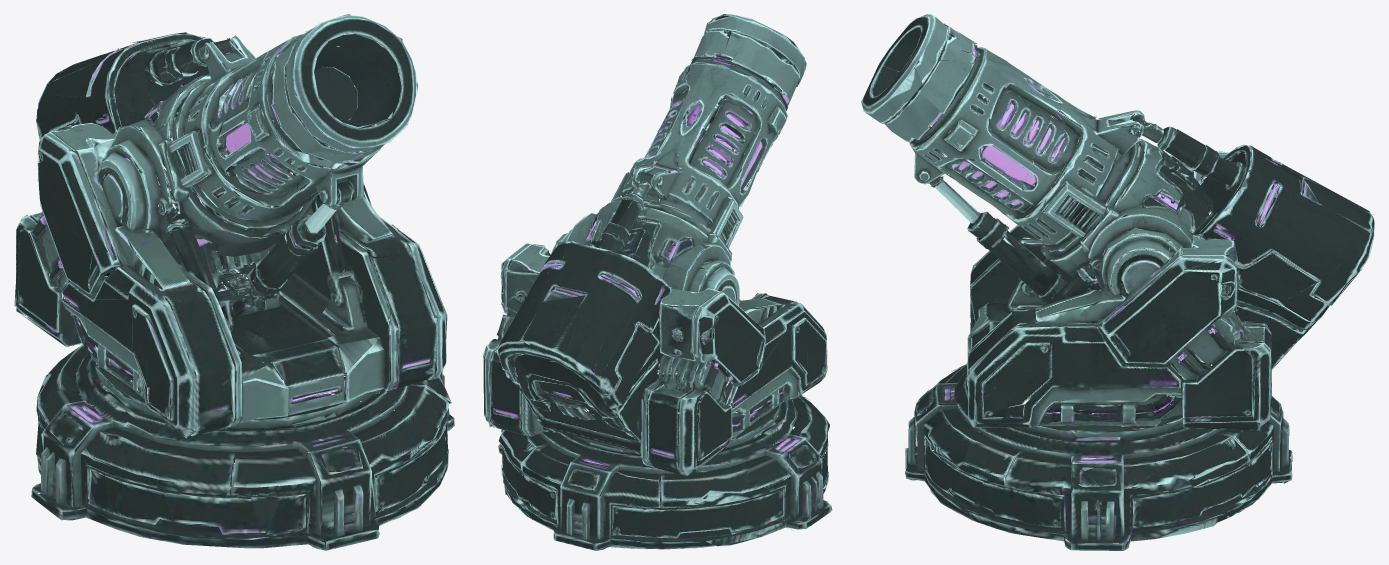
Rendered from tower_plasma_p2_t5.glb.
3 renders of one model, left to right at view 1: azimuth 30°, elevation 25°; view 2: azimuth 150°, elevation 25°; view 3: azimuth 270°, elevation 25°, orthographic. The views are drawn at different scales.
Visible parts, largest first — view 1: head, base; view 2: head, base; view 3: head, base.
Boxes of the visible parts, x1,y1,x2,y2 form: head: [14, 14, 447, 438]; base: [31, 300, 454, 550]; head: [483, 14, 827, 475]; base: [498, 358, 832, 550]; head: [861, 14, 1374, 434]; base: [905, 347, 1292, 550].
Bounding box in the file's own units: 0.8233 × 1.04 × 1.08.
1 material, 1 textured.
